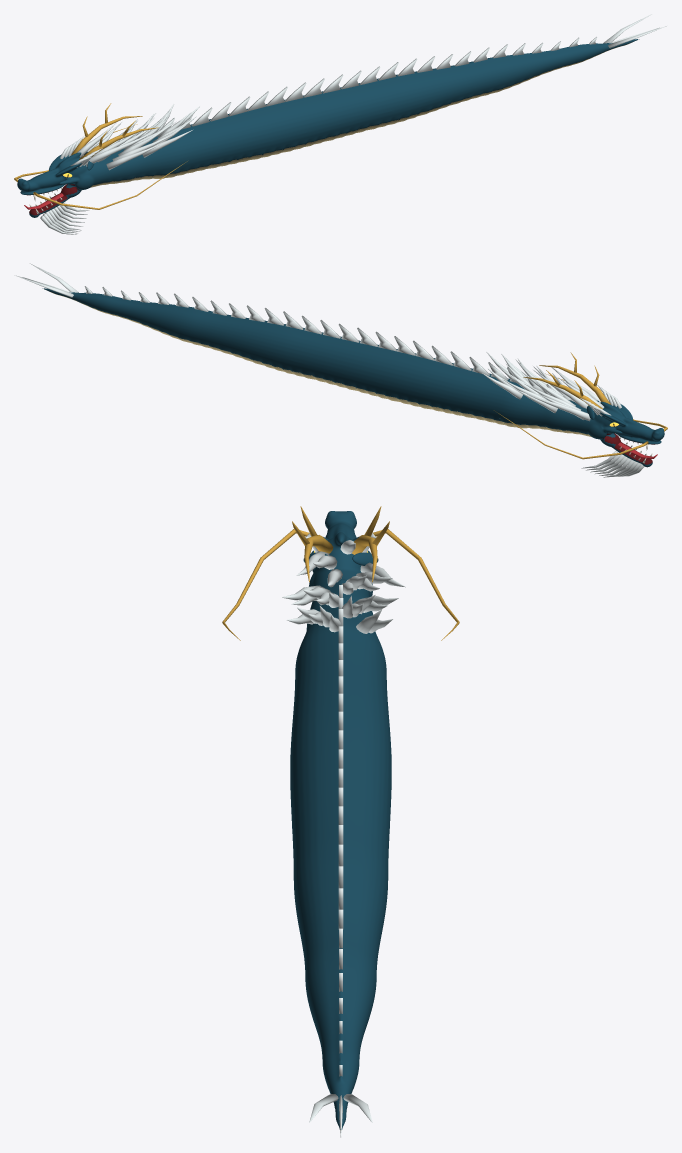
The model's file is water.glb.
3 views of the same model, one above another, from view 1: azimuth 30°, elevation 25°; view 2: azimuth 150°, elevation 25°; view 3: azimuth 270°, elevation 25° (orthographic). The views are drawn at different scales.
Visible parts, largest first — view 1: dragon_water; view 2: dragon_water; view 3: dragon_water.
Part boxes in pixels (box(x1,y1,x2,y2)): dragon_water: box(14, 14, 667, 234); dragon_water: box(14, 263, 667, 477); dragon_water: box(222, 506, 459, 1137).
Size of the model in its own units: 10.33 by 1.65 by 1.66.
